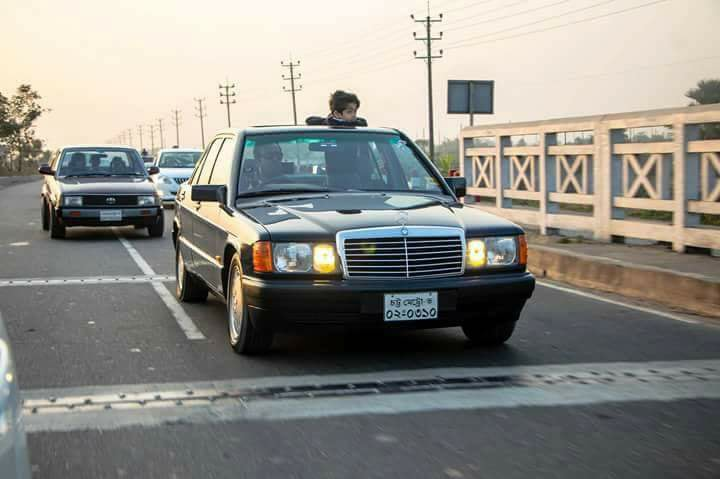registration_plate: (383, 291, 439, 321), (99, 209, 122, 221)
